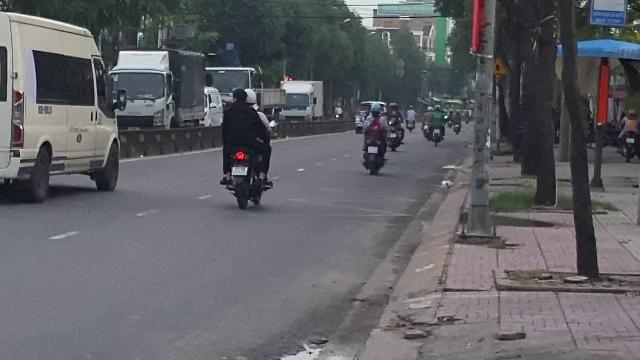helmet: (245, 88, 257, 103)
licenseplate: (232, 166, 248, 176)
motorcyclist: (216, 84, 274, 207)
nohelmet: (230, 86, 246, 102)
